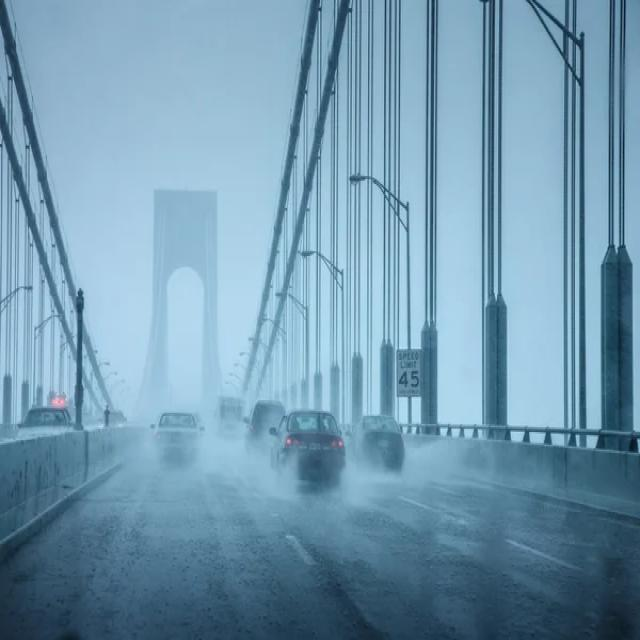no-low traffic: (110, 368, 427, 640)
